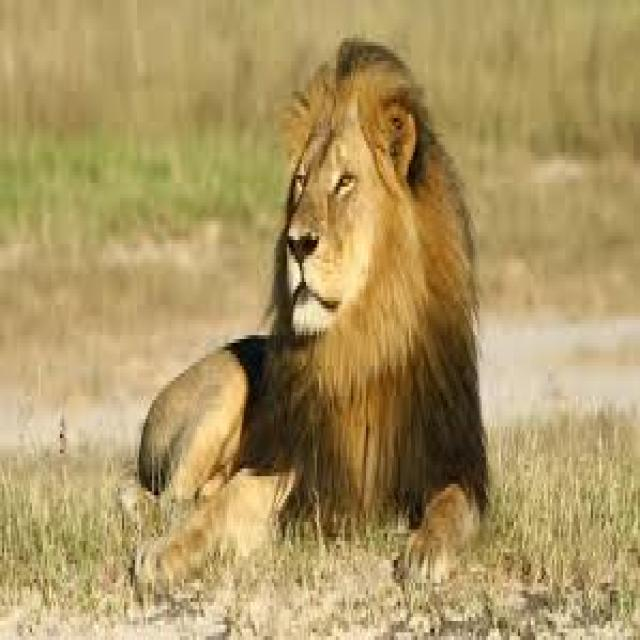Lion: (130, 36, 491, 601)
